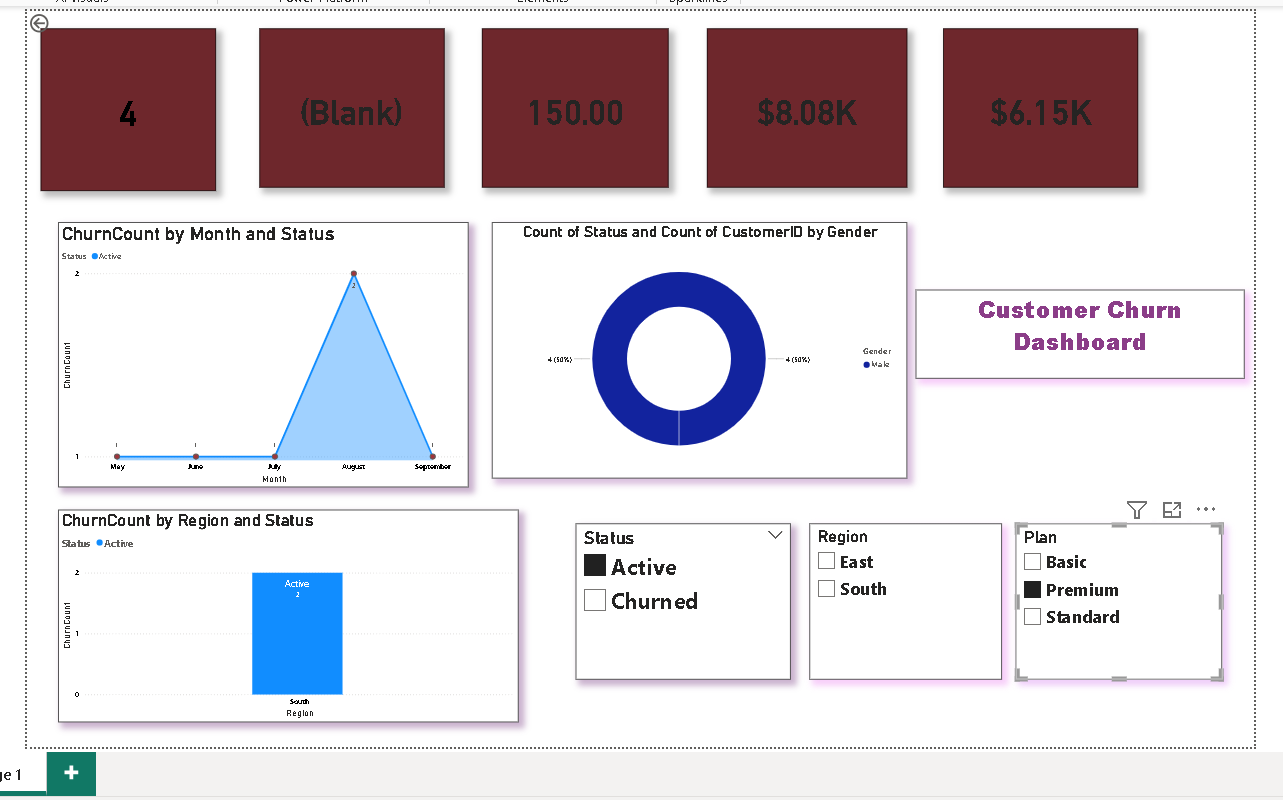

What the dashboard file says about the page in this screenshot:
{"tool":"powerbi","page":{"name":"Page 1","canvas":[2000,1200],"ordinal":0},"visuals":[{"type":"card","fields":{"Values":["Count(Sheet1.CustomerID)"]},"box":[22.4,28.5,285.3,264.9],"z":0},{"type":"card","fields":{"Values":["Count(Sheet1.CustomerID)"]},"box":[379.1,28.5,301.6,258.8],"z":1000},{"type":"actionButton","box":[0,0,100,40],"z":2000},{"type":"card","fields":{"Values":["Sheet1.ChurnRate"]},"box":[741.9,28.5,303.7,258.8],"z":3000},{"type":"card","fields":{"Values":["Sheet1.TotalMonthlyRevenue"]},"box":[1493.9,28.5,317.9,258.8],"z":4000},{"type":"card","fields":{"Values":["Sheet1.RevenueLost"]},"box":[1108.7,28.5,326.1,258.8],"z":5000},{"type":"lineChart","fields":{"Category":["Sheet1.ChurnDate.Variation.Date Hierarchy.Month"],"Y":["Sheet1.ChurnCount"],"Series":["Sheet1.Status"]},"box":[51,344.4,668.5,432.1],"z":6000},{"type":"columnChart","fields":{"Category":["Sheet1.Region"],"Y":["Sheet1.ChurnCount"],"Series":["Sheet1.Status"]},"box":[51,813.2,750,346.5],"z":7000},{"type":"donutChart","fields":{"Category":["Sheet1.Gender"],"Y":["CountNonNull(Sheet1.Status)","CountNonNull(Sheet1.CustomerID)"]},"box":[758.2,344.4,676.6,417.8],"z":8000},{"type":"slicer","fields":{"Values":["Sheet1.Plan"]},"box":[1612.1,835.6,336.3,254.8],"z":9000},{"type":"slicer","fields":{"Values":["Sheet1.Region"]},"box":[1275.8,835.6,313.9,254.8],"z":10000},{"type":"slicer","fields":{"Values":["Sheet1.Status"]},"box":[894.7,835.6,350.5,254.8],"z":11000},{"type":"textbox","box":[1449.1,454.5,536,144.7],"z":11001}]}

Visuals, with their boxes in screenshot pixels (x1, y1, x2, y2):
card - Count(Sheet1.CustomerID): box=[40, 27, 214, 189]
card - Count(Sheet1.CustomerID): box=[258, 27, 442, 185]
actionButton: box=[27, 10, 88, 34]
card - Sheet1.ChurnRate: box=[479, 27, 665, 185]
card - Sheet1.TotalMonthlyRevenue: box=[938, 27, 1132, 185]
card - Sheet1.RevenueLost: box=[703, 27, 902, 185]
lineChart - Sheet1.ChurnDate.Variation.Date Hierarchy.Month x Sheet1.ChurnCount: box=[58, 220, 466, 484]
columnChart - Sheet1.Region x Sheet1.ChurnCount: box=[58, 506, 516, 718]
donutChart - Sheet1.Gender x CountNonNull(Sheet1.Status): box=[489, 220, 902, 475]
slicer - Sheet1.Plan: box=[1010, 520, 1216, 675]
slicer - Sheet1.Region: box=[805, 520, 997, 675]
slicer - Sheet1.Status: box=[573, 520, 787, 675]
textbox: box=[911, 287, 1238, 376]
